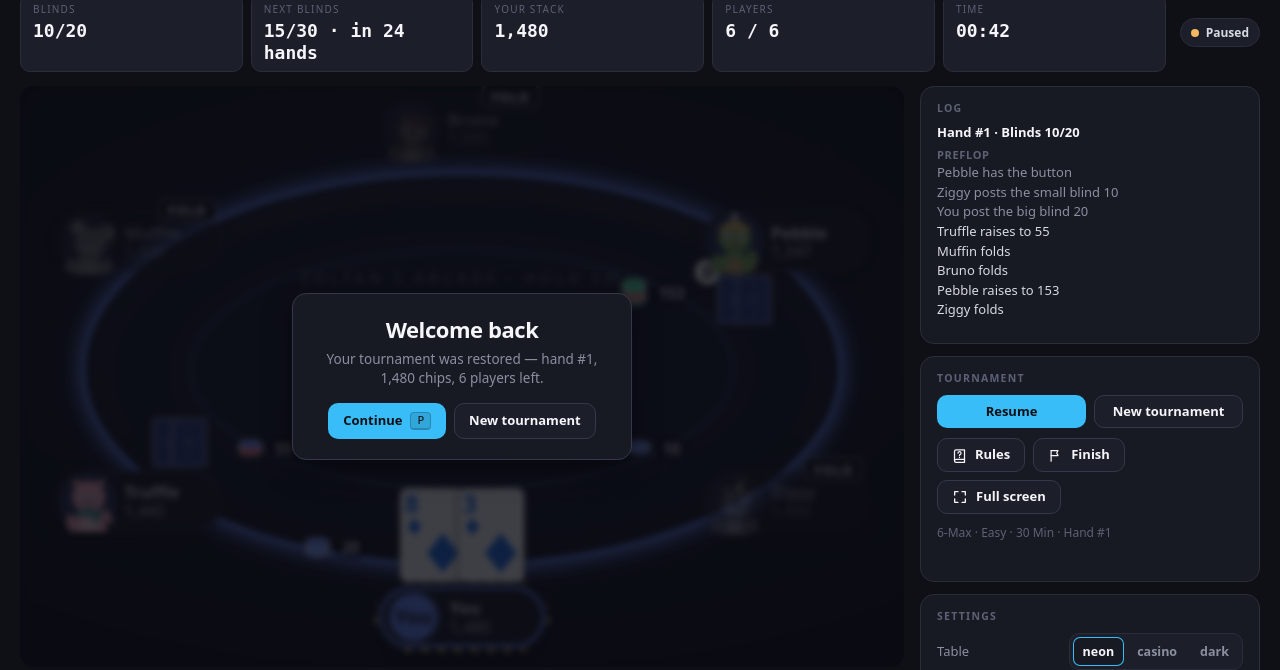
Test: Texas Hold'em i18n › switching to Hungarian mid-hand keeps the table, stack and hand
What coordinates should you click on to do the following:
click the button "Continue P"
I would click on:
 (387, 421)
Its box is [328, 403, 446, 439].
(page scrolled)
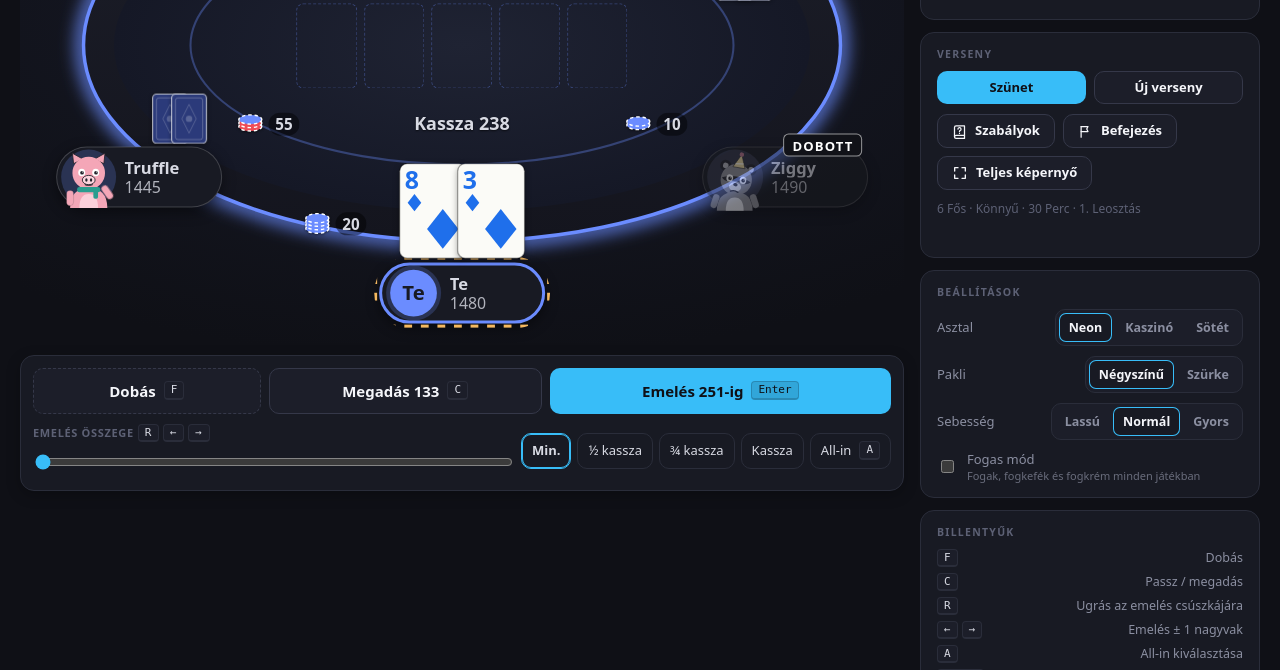
Expected: the dialog is gone
Expected: the button "Dobás F" is enabled, [33, 368, 261, 414]
